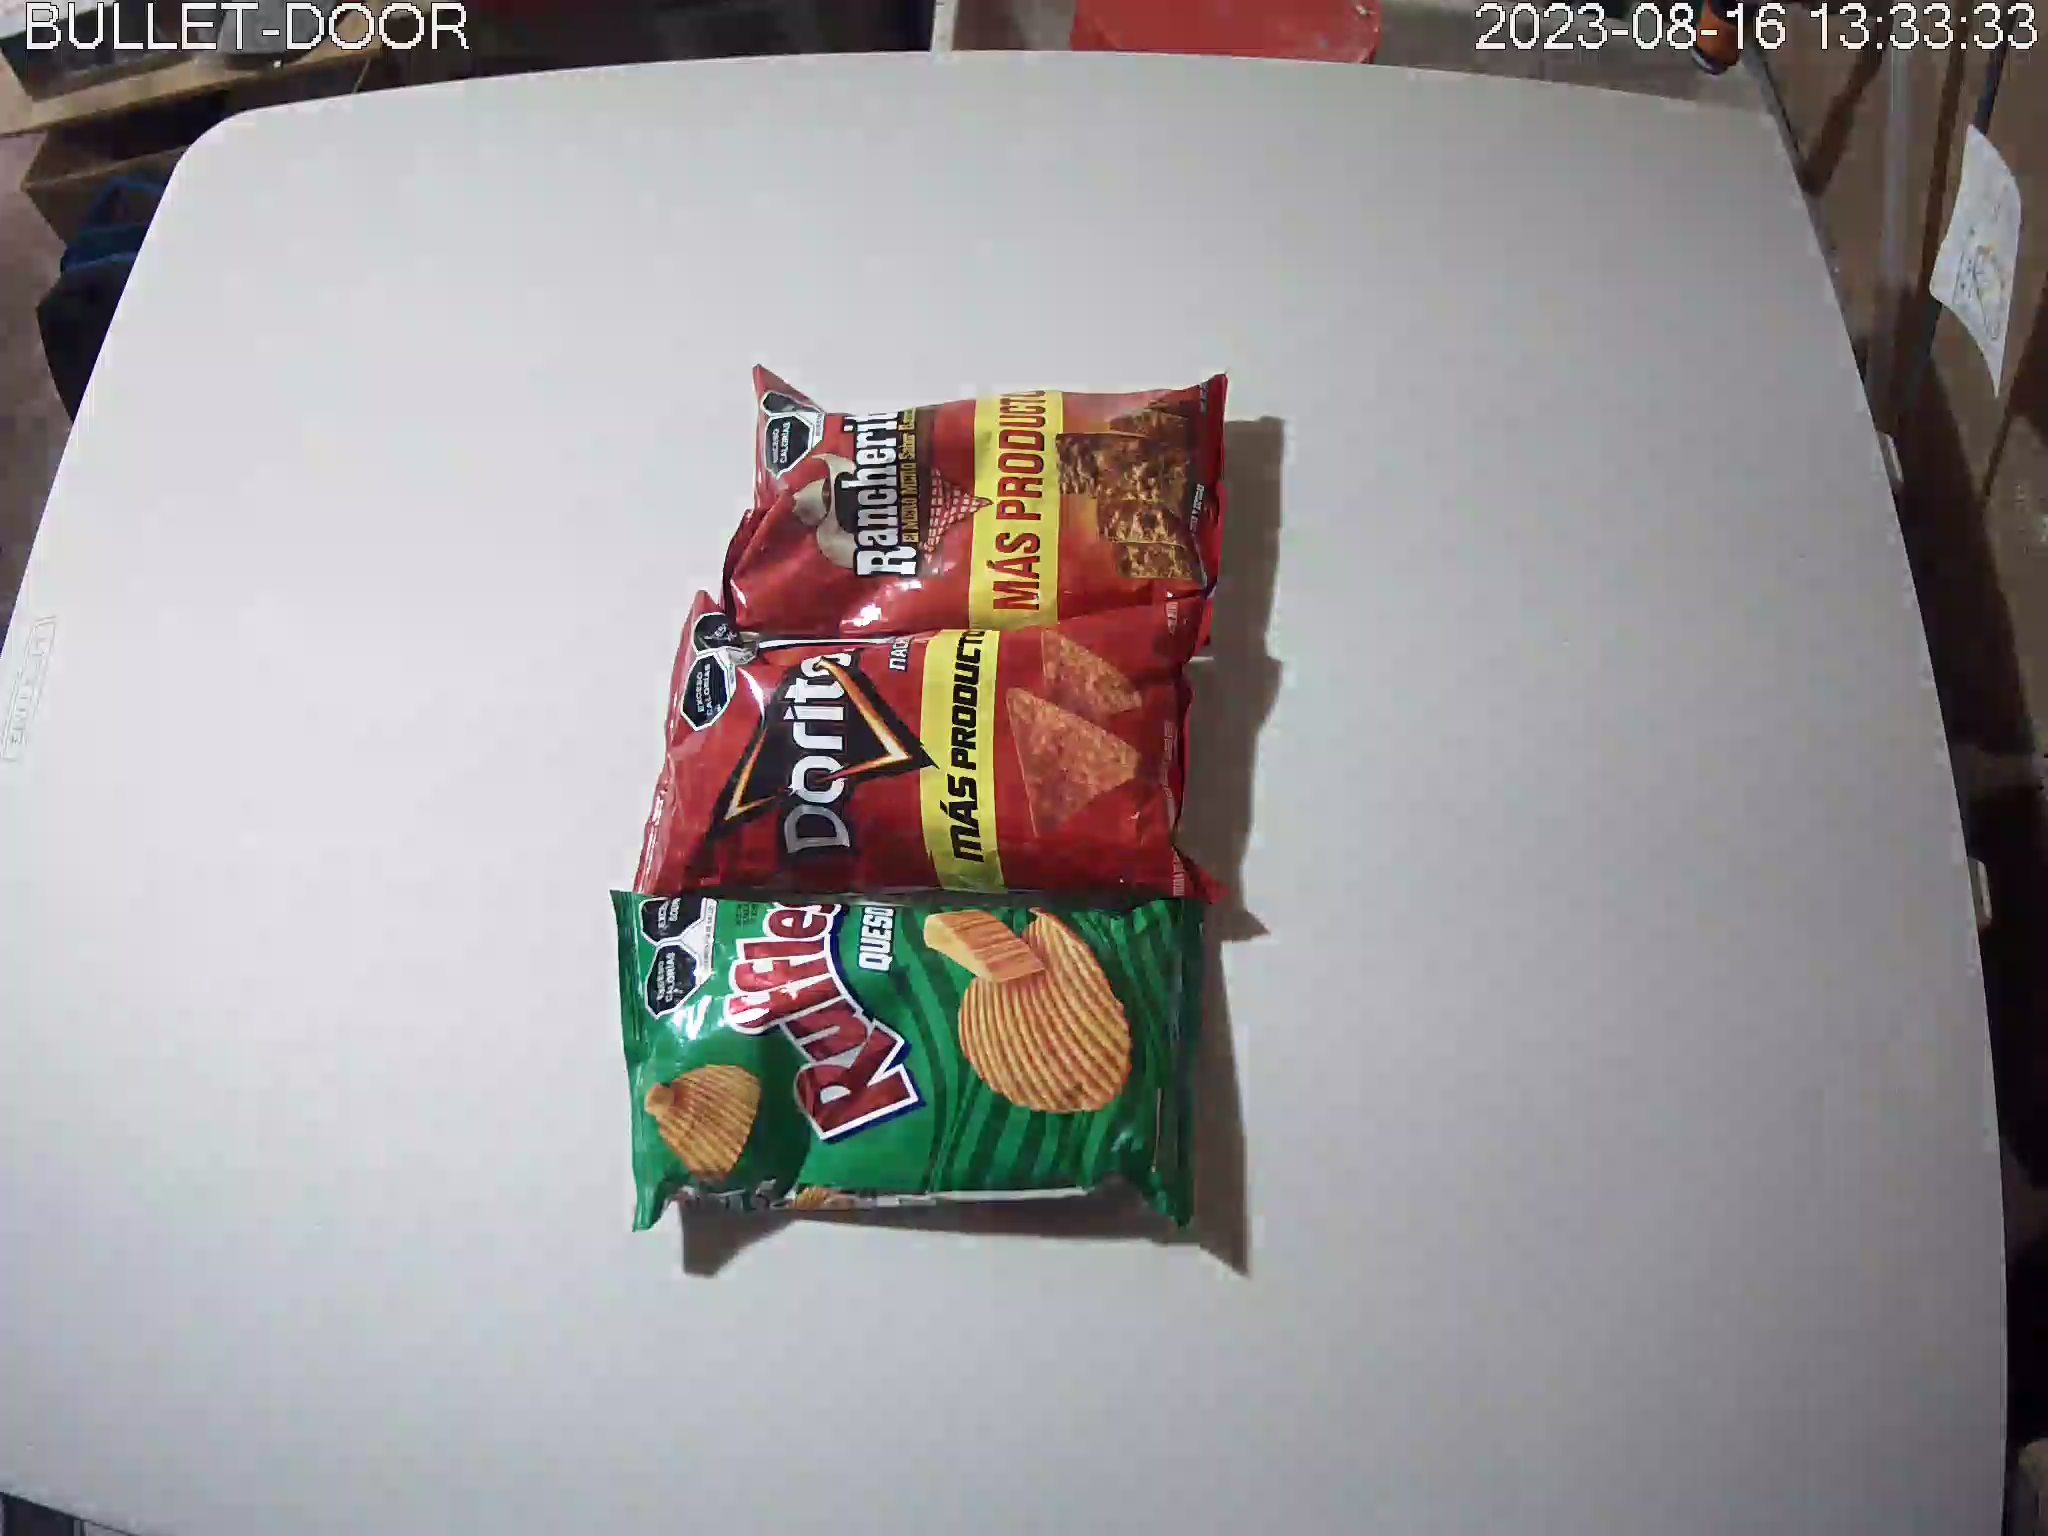DoritosN_61_F: (635, 589, 1229, 905)
Rancheritos_58_F: (719, 361, 1230, 644)
RufflesQ_48_F: (608, 889, 1208, 1236)
